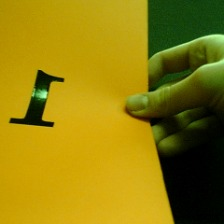orange1: (4, 64, 67, 132)
